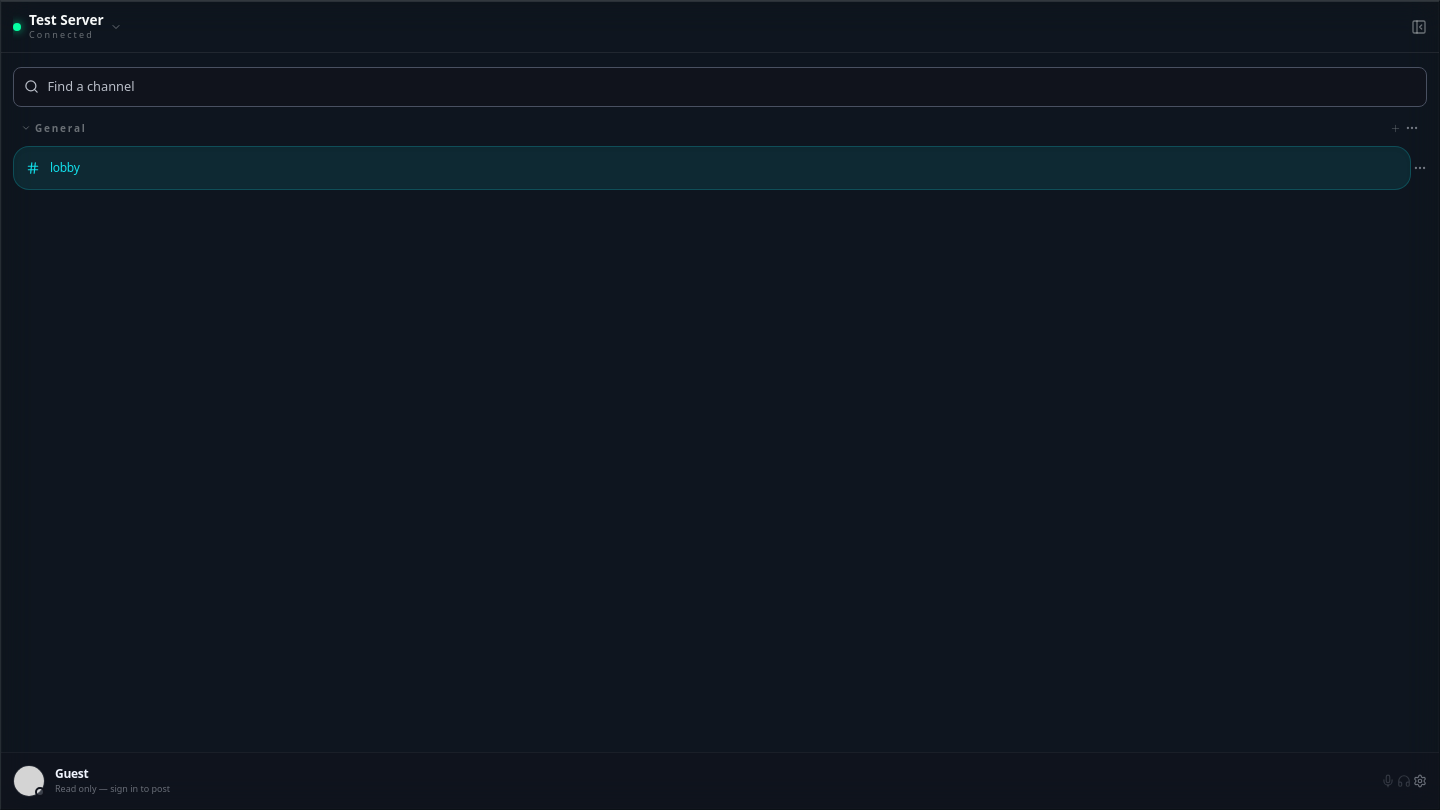
ChannelRail channel creation (owner) › hides the Announce option when the feature flag is off
Click the button named "Add channel". click: (1396, 128)
box: [1390, 123, 1401, 134]
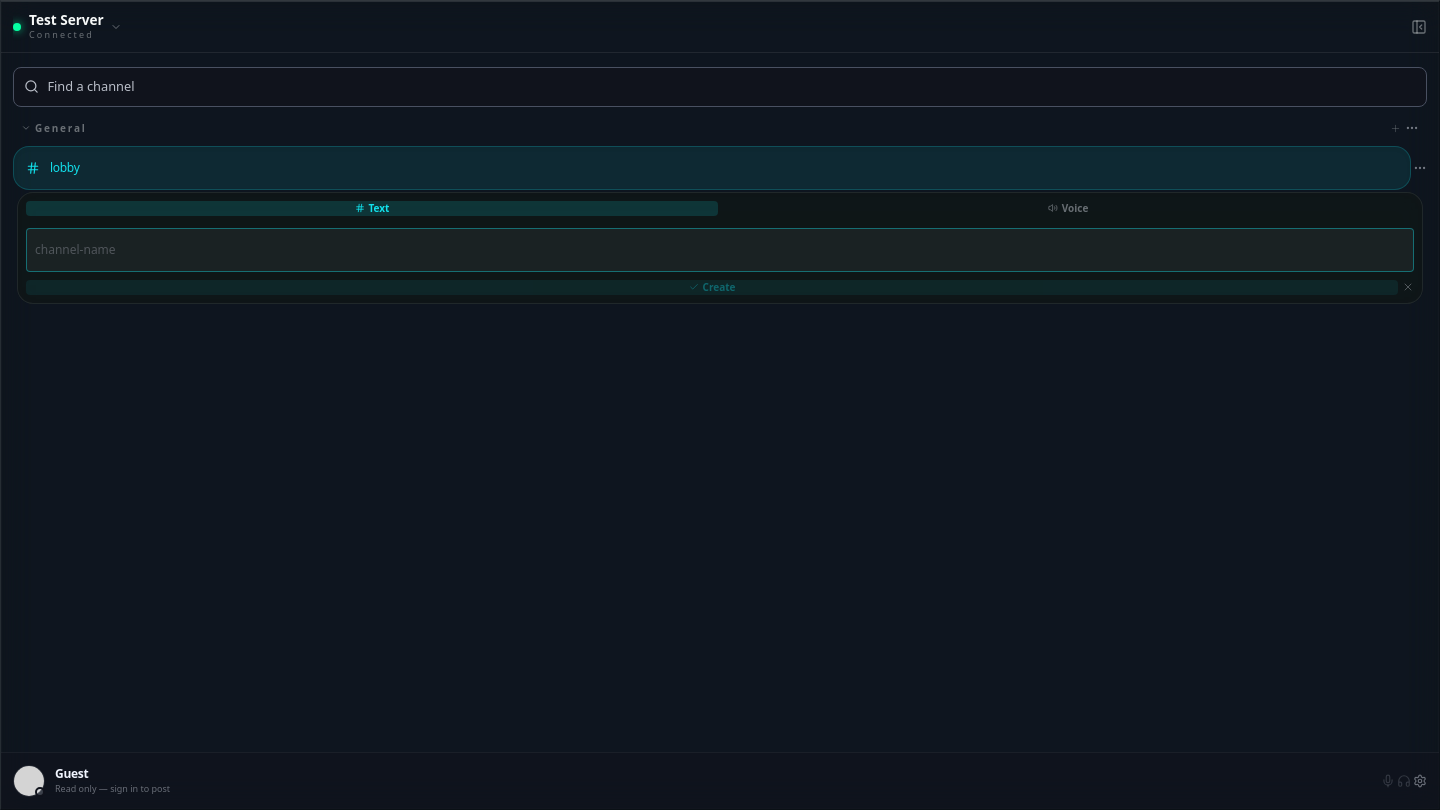
expect the button "Text" is shown: met, box [26, 201, 718, 216]
